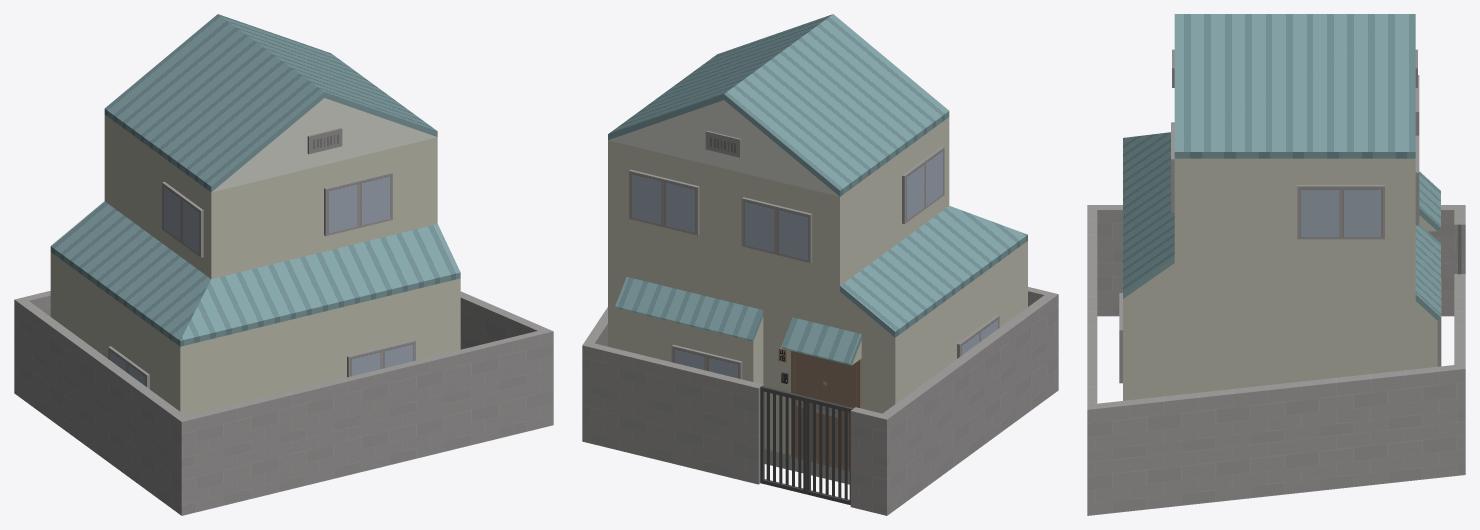
The model's file is 00f5_Yamada_Residence.glb.
The picture shows the model from 3 angles, left to right: view 1: azimuth 30°, elevation 25°; view 2: azimuth 150°, elevation 25°; view 3: azimuth 270°, elevation 25°; orthographic projection. The views are drawn at different scales.
Parts seen in each view (by area): view 1: part_0; view 2: part_0; view 3: part_0.
Boxes of the visible parts, x1=… form: part_0: x1=14, y1=14, x2=553, y2=515; part_0: x1=582, y1=14, x2=1058, y2=515; part_0: x1=1087, y1=14, x2=1465, y2=515.
Bounding box in the file's own units: 6.63 × 5.99 × 5.17.
1 material, 1 textured.
